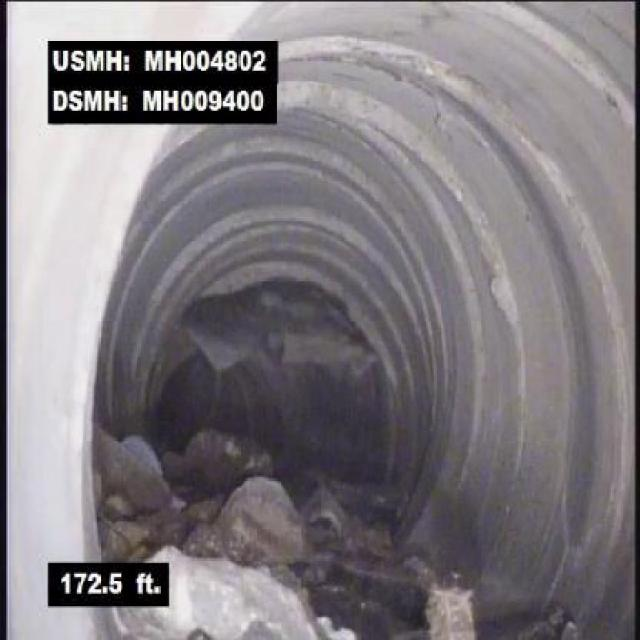Debris: (174, 496, 523, 638)
